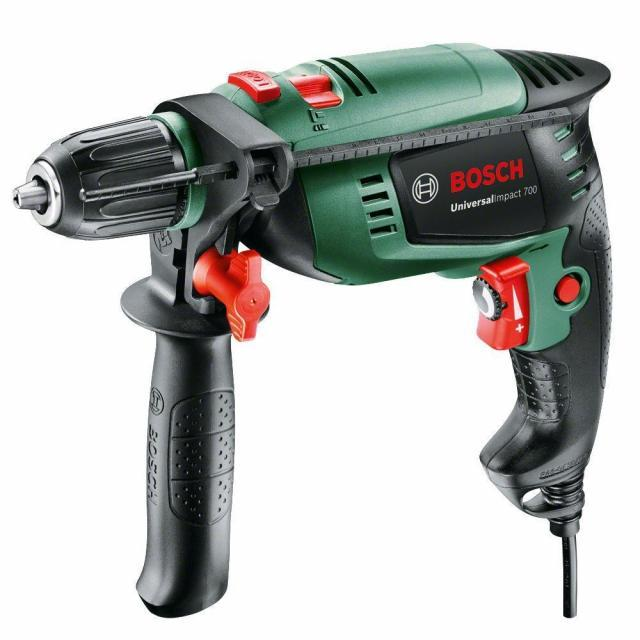drill: (11, 42, 614, 620)
